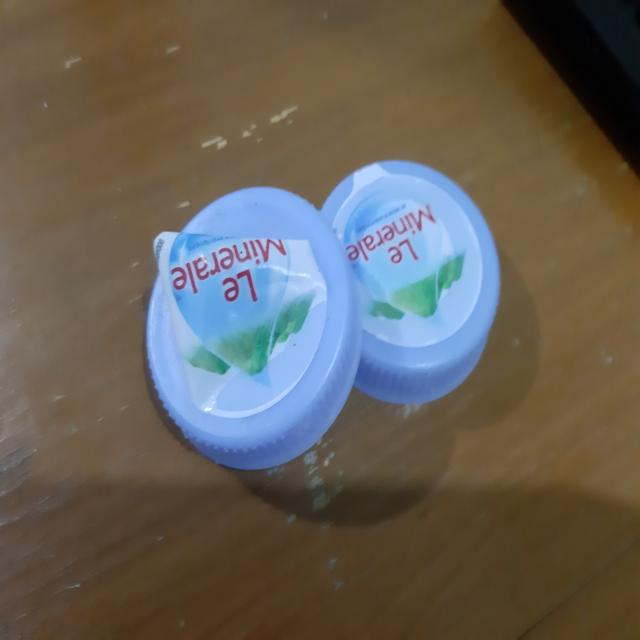TutupGalon: (124, 155, 508, 492)
